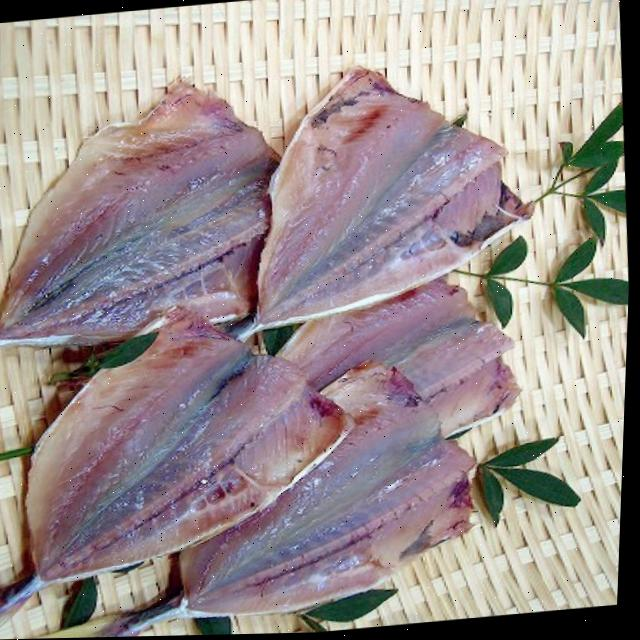熟制海鲜: (0, 41, 566, 640)
